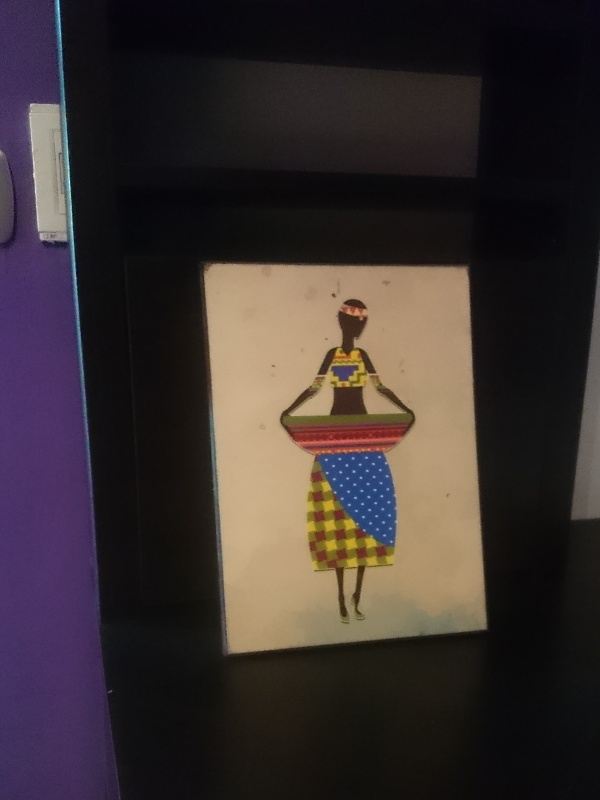my image: (207, 265, 484, 654)
